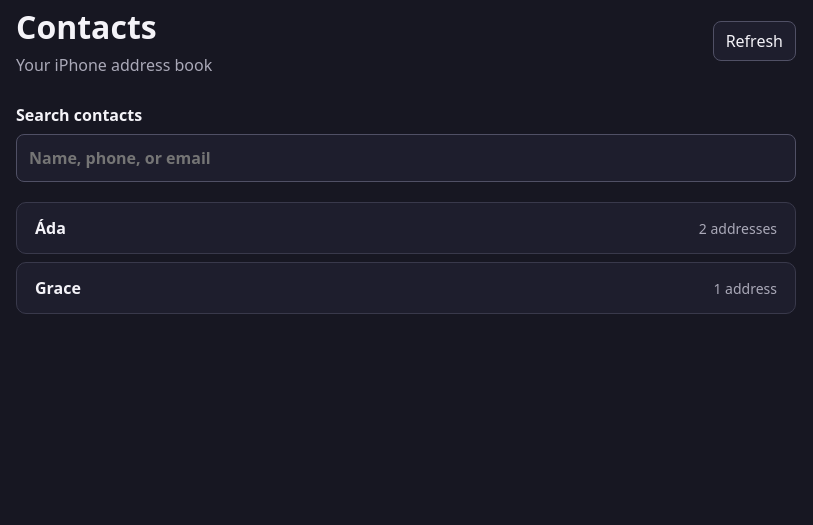
Scenario: Contacts view › copies display text instead of the key and reports clipboard failure
Click the text "Áda": (50, 228) [35, 217, 66, 239]
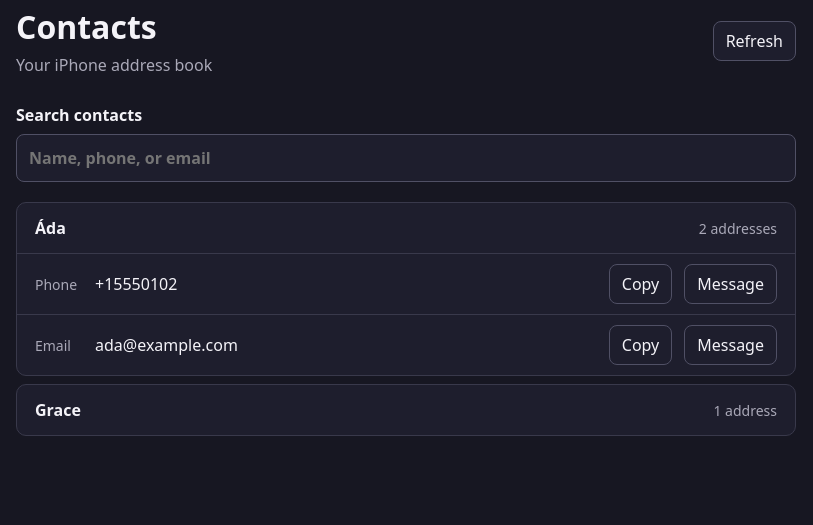
Click the button with aria-label "Copy +15550102": (641, 284) [609, 264, 672, 304]
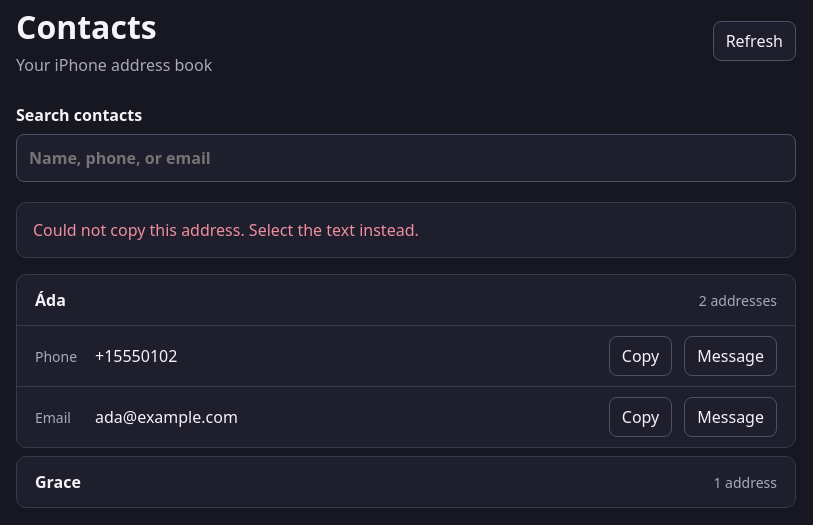
Expected: the message shows "Could not copy", [33, 219, 419, 241]
